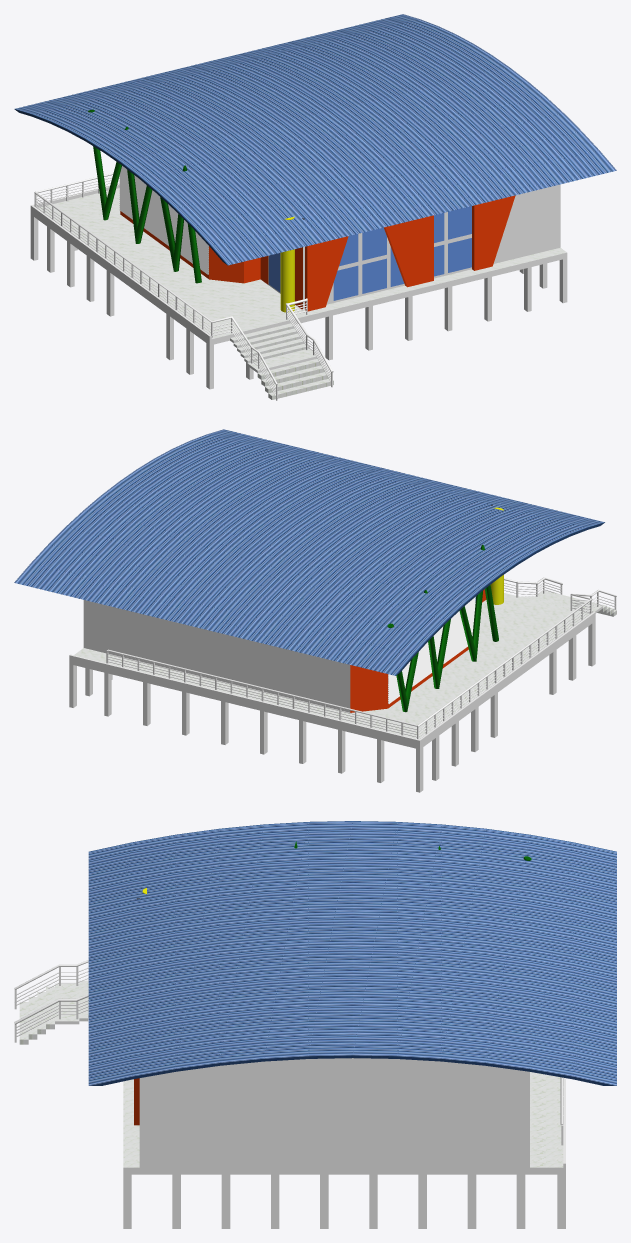
File: Tòa đa năng.obj
3 renders of one model, top to bottom at view 1: azimuth 30°, elevation 25°; view 2: azimuth 150°, elevation 25°; view 3: azimuth 270°, elevation 25°, orthographic. The views are drawn at different scales.
Parts seen in each view (by area): view 1: Mesh3 Group6 Group2 Group1 T_a__a_n_ng_1 Model, Mesh114 Group111 Group2 Group1 T_a__a_n_ng_1 Model, Mesh1 Group4 Group3 Group2 Group1 T_a__a_n_ng_1 Model, Mesh4 Group7 Group2 Group1 T_a__a_n_ng_1 Model, Mesh2 Group5 Group2 Group1 T_a__a_n_ng_1 Model, Mesh49 Group55 Group44 Group43 Group2 Group1 T_a__a_n_ng_1 Model, Mesh111 Component_29_1 Group110 Group2 Group1 T_a__a_n_ng_1 Mode; view 2: Mesh3 Group6 Group2 Group1 T_a__a_n_ng_1 Model, Mesh1 Group4 Group3 Group2 Group1 T_a__a_n_ng_1 Model, Mesh114 Group111 Group2 Group1 T_a__a_n_ng_1 Model, Mesh4 Group7 Group2 Group1 T_a__a_n_ng_1 Model, Mesh44 Group50 Group44 Group43 Group2 Group1 T_a__a_n_ng_1 Model, Mesh49 Group55 Group44 Group43 Group2 Group1 T_a__a_n_ng_1 Model; view 3: Mesh3 Group6 Group2 Group1 T_a__a_n_ng_1 Model, Mesh114 Group111 Group2 Group1 T_a__a_n_ng_1 Model, Mesh1 Group4 Group3 Group2 Group1 T_a__a_n_ng_1 Model, Mesh111 Component_29_1 Group110 Group2 Group1 T_a__a_n_ng_1 Mode.
Part boxes in pixels (<box>): Mesh3 Group6 Group2 Group1 T_a__a_n_ng_1 Model: <box>14,14,616,265</box>; Mesh114 Group111 Group2 Group1 T_a__a_n_ng_1 Model: <box>119,166,560,311</box>; Mesh1 Group4 Group3 Group2 Group1 T_a__a_n_ng_1 Model: <box>30,184,567,345</box>; Mesh4 Group7 Group2 Group1 T_a__a_n_ng_1 Model: <box>88,109,201,283</box>; Mesh2 Group5 Group2 Group1 T_a__a_n_ng_1 Model: <box>280,216,294,312</box>; Mesh49 Group55 Group44 Group43 Group2 Group1 T_a__a_n_ng_1 Model: <box>34,191,277,385</box>; Mesh111 Component_29_1 Group110 Group2 Group1 T_a__a_n_ng_1 Mode: <box>247,348,319,372</box>; Mesh3 Group6 Group2 Group1 T_a__a_n_ng_1 Model: <box>14,429,604,675</box>; Mesh1 Group4 Group3 Group2 Group1 T_a__a_n_ng_1 Model: <box>69,593,595,749</box>; Mesh114 Group111 Group2 Group1 T_a__a_n_ng_1 Model: <box>83,504,492,712</box>; Mesh4 Group7 Group2 Group1 T_a__a_n_ng_1 Model: <box>387,544,498,712</box>; Mesh44 Group50 Group44 Group43 Group2 Group1 T_a__a_n_ng_1 Model: <box>107,649,417,726</box>; Mesh49 Group55 Group44 Group43 Group2 Group1 T_a__a_n_ng_1 Model: <box>416,589,616,727</box>; Mesh3 Group6 Group2 Group1 T_a__a_n_ng_1 Model: <box>88,821,616,1085</box>; Mesh114 Group111 Group2 Group1 T_a__a_n_ng_1 Model: <box>134,898,529,1167</box>; Mesh1 Group4 Group3 Group2 Group1 T_a__a_n_ng_1 Model: <box>123,1072,565,1174</box>; Mesh111 Component_29_1 Group110 Group2 Group1 T_a__a_n_ng_1 Mode: <box>55,983,79,1024</box>.
Size of the model in its own units: 33285 by 13106 by 35799.
